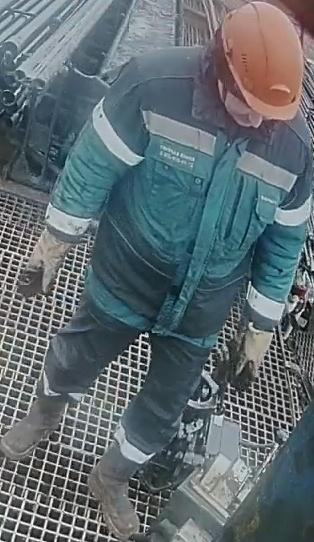gloves: (16, 225, 79, 301), (227, 324, 277, 388)
helmet: (220, 0, 304, 120)
vest: (86, 46, 312, 339)
